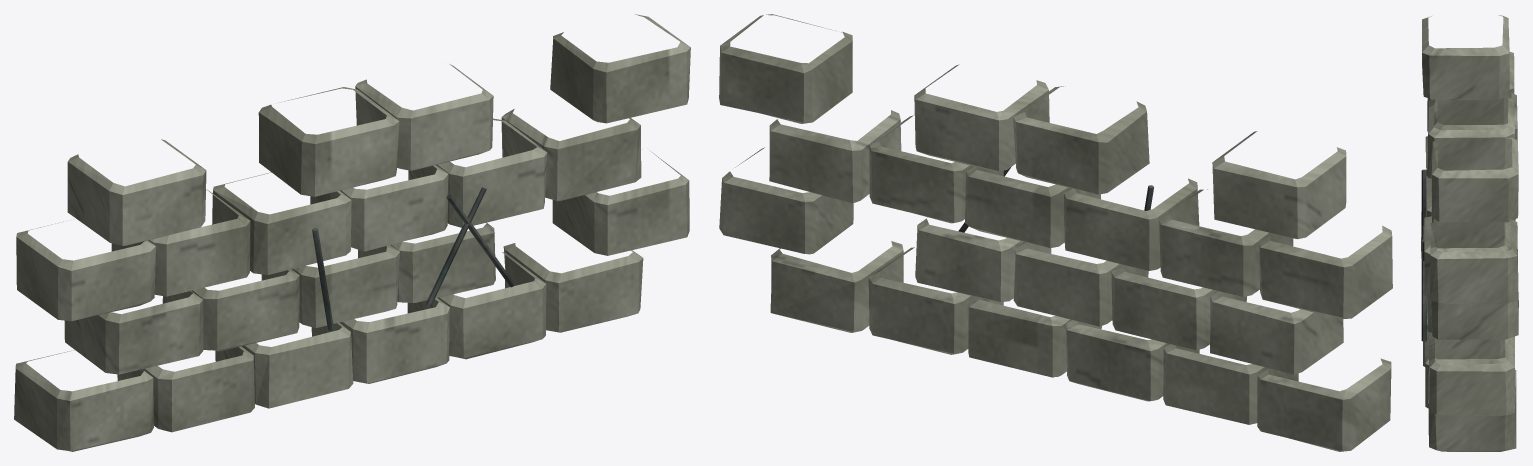
The model's file is 0339_wall_section_14.glb.
3 views of the same model, side by side, from view 1: azimuth 30°, elevation 25°; view 2: azimuth 150°, elevation 25°; view 3: azimuth 270°, elevation 25° (orthographic). The views are drawn at different scales.
Visible parts, largest first — view 1: stone_light, iron; view 2: stone_light; view 3: stone_light, iron.
Part boxes in pixels (x1,y1,x2,y2): stone_light: [14, 14, 690, 451]; iron: [312, 187, 514, 330]; stone_light: [719, 14, 1392, 451]; stone_light: [1421, 15, 1518, 451]; iron: [1421, 169, 1426, 341].
Bounding box in the file's own units: 3.83 × 1.5 × 0.5994.
2 materials, 2 textured.
